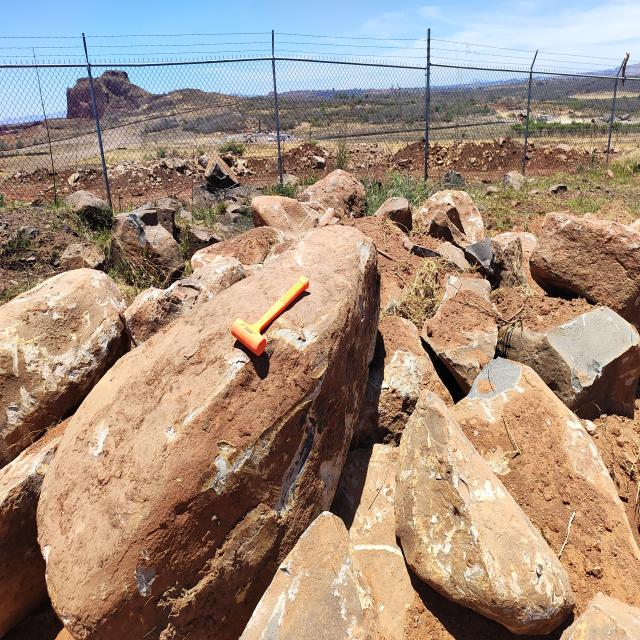Orange_hammer: (230, 274, 310, 356)
